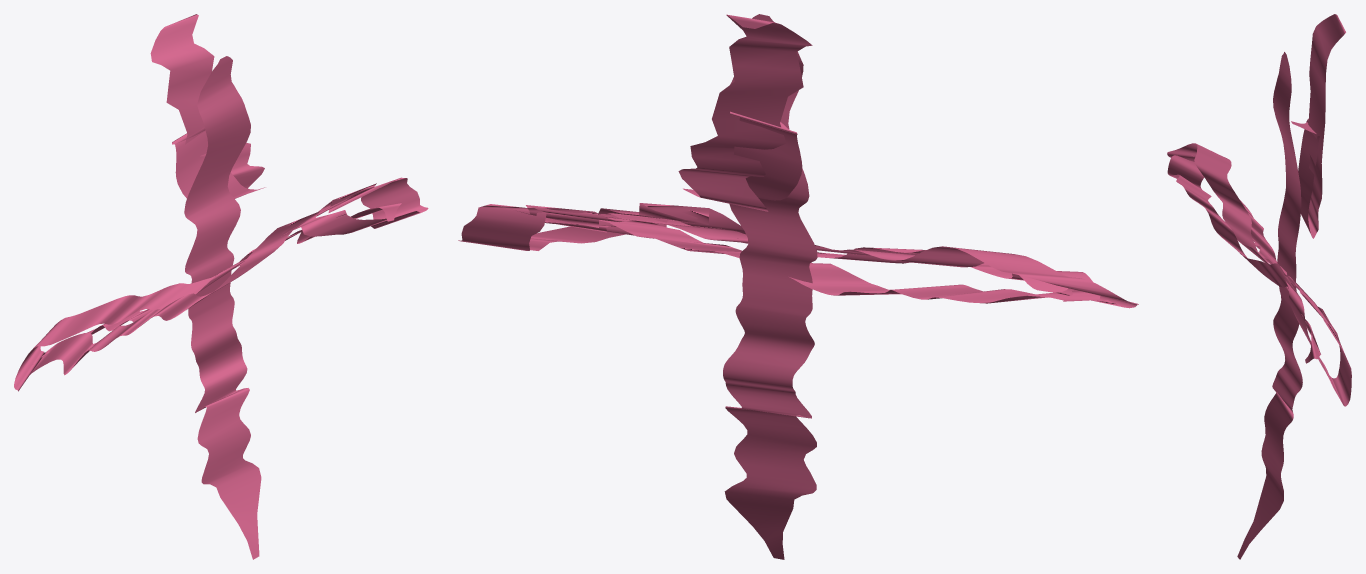
File: red-cross.gltf
The picture shows the model from 3 angles, left to right: view 1: azimuth 30°, elevation 25°; view 2: azimuth 150°, elevation 25°; view 3: azimuth 270°, elevation 25°; orthographic projection. The views are drawn at different scales.
Bounding box in the file's own units: 0.3756 × 0.3649 × 0.1169.
